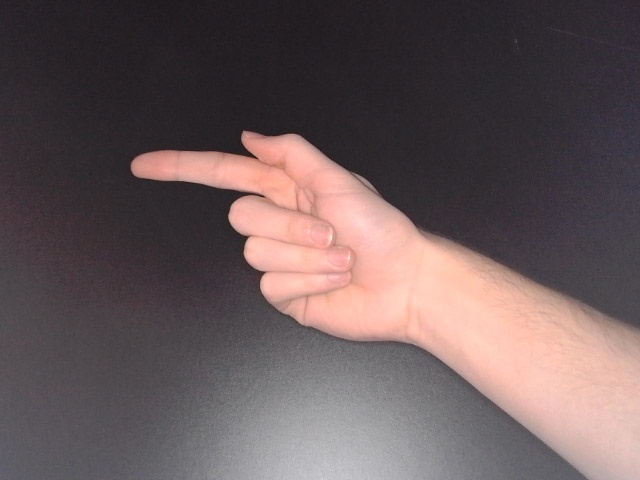g: (127, 127, 455, 358)
